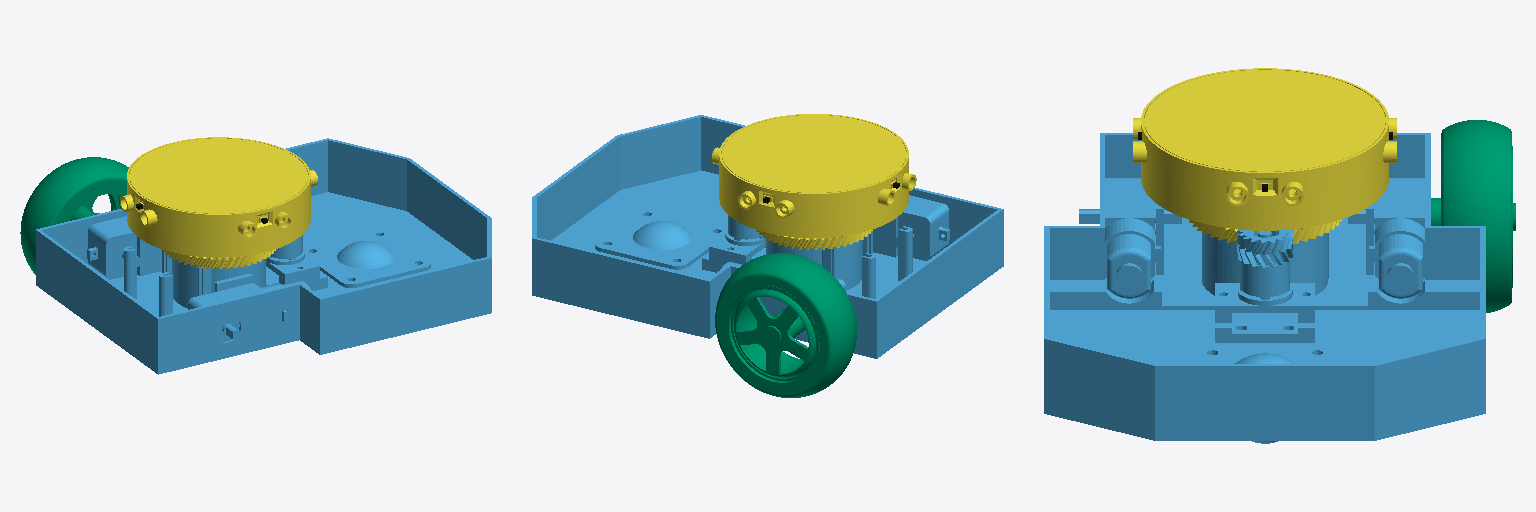
robot.urdf — Lidarino:
<?xml version="1.0" ?>
<!-- =================================================================================== -->
<!-- |    This document was autogenerated by xacro from src/lidarino_description/urdf/Lidarino.urdf.xacro | -->
<!-- |    EDITING THIS FILE BY HAND IS NOT RECOMMENDED                                 | -->
<!-- =================================================================================== -->
<robot name="Lidarino">
  <link name="wheel_R">
    <inertial>
      <origin rpy="0.0 -0.0 0.0" xyz="3.8589283501977436e-08 3.3503422258718277e-13 -0.017044397508191807"/>
      <mass value="0.0493089812577897"/>
      <inertia ixx="2.1725366580018456e-05" ixy="5.925842498991085e-17" ixz="1.2860682814920879e-11" iyy="2.172573834724608e-05" iyz="1.1233689759665433e-16" izz="3.791921679166611e-05"/>
    </inertial>
    <visual name="wheel_R_visual">
      <origin rpy="-4.72621546065603e-16 -1.1102230246251568e-16 -2.7755575615628926e-17" xyz="1.1368683772161603e-15 1.3322676295501878e-17 0.0"/>
      <geometry>
        <mesh filename="package://lidarino_description/urdf/meshes/wheel_R.stl" scale="0.001 0.001 0.001"/>
      </geometry>
    </visual>
    <collision name="wheel_R_collision">
      <origin rpy="0 0 0" xyz="0 0 -0.017"/>
      <geometry>
        <sphere radius="0.035"/>
      </geometry>
    </collision>
  </link>
  <link name="base_link">
    <inertial>
      <origin rpy="0.0 0.0 0.0" xyz="-0.003112056333080186 -2.296575824702822e-16 0.00763198155223819"/>
      <mass value="0.23452271908044364"/>
      <inertia ixx="0.00044352479067893535" ixy="8.940708824769937e-15" ixz="3.3751097963762396e-05" iyy="0.0006700968102651768" iyz="3.5156320803171255e-12" izz="0.001064913287950513"/>
    </inertial>
    <visual name="base_link_visual">
      <origin rpy="0.0 0.0 0.0" xyz="0.0 0.0 0.0"/>
      <geometry>
        <mesh filename="package://lidarino_description/urdf/meshes/base_link.stl" scale="0.001 0.001 0.001"/>
      </geometry>
    </visual>
    <collision name="base_link_collision">
      <origin rpy="0.0 0.0 0.0" xyz="0.0 0.0 0.0"/>
      <geometry>
        <mesh filename="package://lidarino_description/urdf/meshes/base_link.stl" scale="0.001 0.001 0.001"/>
      </geometry>
    </collision>
  </link>
  <link name="wheel_L">
    <inertial>
      <origin rpy="0.0 -0.0 0.0" xyz="3.8589283501977436e-08 3.3503422258718277e-13 -0.017044397508191828"/>
      <mass value="0.0493089812577897"/>
      <inertia ixx="2.17253665800184e-05" ixy="5.927197751706692e-17" ixz="1.2860682842025933e-11" iyy="2.1725738347246244e-05" iyz="1.1234367386023236e-16" izz="3.7919216791666135e-05"/>
    </inertial>
    <visual name="wheel_L_visual">
      <origin rpy="-1.4649353258190343e-16 -1.2470396389907355e-32 -5.551115123125783e-17" xyz="1.1368683772161603e-15 1.1102230246251566e-17 0.0"/>
      <geometry>
        <mesh filename="package://lidarino_description/urdf/meshes/wheel_L.stl" scale="0.001 0.001 0.001"/>
      </geometry>
    </visual>
    <collision name="wheel_L_collision">
      <origin rpy="0 0 0" xyz="0 0 -0.017"/>
      <geometry>
        <sphere radius="0.035"/>
      </geometry>
    </collision>
  </link>
  <link name="lidar">
    <inertial>
      <origin rpy="0.0 -0.0 0.0" xyz="9.148285995408401e-10 -1.4055638260363446e-14 -0.018366241687653523"/>
      <mass value="0.05517921789897613"/>
      <inertia ixx="4.035574913846524e-05" ixy="6.10000891607277e-14" ixz="2.3863745181318397e-13" iyy="4.035574911324637e-05" iyz="-7.147133370998126e-17" izz="6.456345828808408e-05"/>
    </inertial>
    <visual name="lidar_visual">
      <origin rpy="3.141592653589793 -1.1102230246251565e-16 -3.141592653589788" xyz="0.03699999999999997 -1.3132734841103373e-17 -0.005000000000000009"/>
      <geometry>
        <mesh filename="package://lidarino_description/urdf/meshes/lidar.stl" scale="0.001 0.001 0.001"/>
      </geometry>
    </visual>
    <collision name="lidar_collision">
      <origin rpy="3.141592653589793 -1.1102230246251565e-16 -3.141592653589788" xyz="0.03699999999999997 -1.3132734841103373e-17 -0.005000000000000009"/>
      <geometry>
        <mesh filename="package://lidarino_description/urdf/meshes/lidar.stl" scale="0.001 0.001 0.001"/>
      </geometry>
    </collision>
  </link>
  <joint name="L_wheel_Revolute" type="continuous">
    <origin rpy="1.5707963267948966 -0.0 0.0" xyz="-0.06 0.06 0.015"/>
    <parent link="base_link"/>
    <child link="wheel_L"/>
    <axis xyz="0.0 0.0 -1.0"/>
    <limit effort="10.0" velocity="20.0"/>
  </joint>
  <joint name="R_wheel_Revolute" type="continuous">
    <origin rpy="-1.5707963267948966 -0.0 0.0" xyz="-0.06 -0.06 0.015"/>
    <parent link="base_link"/>
    <child link="wheel_R"/>
    <axis xyz="0.0 0.0 1.0"/>
    <limit effort="10.0" velocity="20.0"/>
  </joint>
  <joint name="lidar_Revolute" type="continuous">
    <origin rpy="3.141592653589793 -0.0 0.0" xyz="-0.031000000000000003 0.0 0.03"/>
    <parent link="base_link"/>
    <child link="lidar"/>
    <axis xyz="0.0 0.0 1.0"/>
  </joint>
  <link name="tof_1_link">
    <visual>
      <geometry>
        <box size="0.0044 0.0024 0.002"/>
      </geometry>
      <material name="black">
        <color rgba="0.1 0.1 0.1 1.0"/>
      </material>
    </visual>
  </link>
  <joint name="tof_1_joint" type="fixed">
    <parent link="lidar"/>
    <child link="tof_1_link"/>
    <origin rpy="0 0 0" xyz="0.044 0.0 -0.031"/>
  </joint>
  <gazebo reference="tof_1_link">
    <sensor name="tof_1_sensor" type="gpu_lidar">
      <topic>/scan_tof_1</topic>
      <pose>0 0 0 0 0 0</pose>
      <always_on>true</always_on>
      <visualize>true</visualize>
      <update_rate>30.0</update_rate>
      <lidar>
        <scan>
          <horizontal>
            <samples>5</samples>
            <resolution>1</resolution>
            <min_angle>-0.218</min_angle>
            <max_angle>0.218</max_angle>
          </horizontal>
        </scan>
        <range>
          <min>0.05</min>
          <max>2.0</max>
          <resolution>0.001</resolution>
        </range>
      </lidar>
      <gz_frame_id>tof_1_link</gz_frame_id>
    </sensor>
  </gazebo>
  <link name="tof_2_link">
    <visual>
      <geometry>
        <box size="0.0044 0.0024 0.002"/>
      </geometry>
      <material name="black">
        <color rgba="0.1 0.1 0.1 1.0"/>
      </material>
    </visual>
  </link>
  <joint name="tof_2_joint" type="fixed">
    <parent link="lidar"/>
    <child link="tof_2_link"/>
    <origin rpy="0 0 1.5707963267948966" xyz="2.694222958124177e-18 0.044 -0.031"/>
  </joint>
  <gazebo reference="tof_2_link">
    <sensor name="tof_2_sensor" type="gpu_lidar">
      <topic>/scan_tof_2</topic>
      <pose>0 0 0 0 0 0</pose>
      <always_on>true</always_on>
      <visualize>true</visualize>
      <update_rate>30.0</update_rate>
      <lidar>
        <scan>
          <horizontal>
            <samples>5</samples>
            <resolution>1</resolution>
            <min_angle>-0.218</min_angle>
            <max_angle>0.218</max_angle>
          </horizontal>
        </scan>
        <range>
          <min>0.05</min>
          <max>2.0</max>
          <resolution>0.001</resolution>
        </range>
      </lidar>
      <gz_frame_id>tof_2_link</gz_frame_id>
    </sensor>
  </gazebo>
  <link name="tof_3_link">
    <visual>
      <geometry>
        <box size="0.0044 0.0024 0.002"/>
      </geometry>
      <material name="black">
        <color rgba="0.1 0.1 0.1 1.0"/>
      </material>
    </visual>
  </link>
  <joint name="tof_3_joint" type="fixed">
    <parent link="lidar"/>
    <child link="tof_3_link"/>
    <origin rpy="0 0 3.141592653589793" xyz="-0.044 5.388445916248354e-18 -0.031"/>
  </joint>
  <gazebo reference="tof_3_link">
    <sensor name="tof_3_sensor" type="gpu_lidar">
      <topic>/scan_tof_3</topic>
      <pose>0 0 0 0 0 0</pose>
      <always_on>true</always_on>
      <visualize>true</visualize>
      <update_rate>30.0</update_rate>
      <lidar>
        <scan>
          <horizontal>
            <samples>5</samples>
            <resolution>1</resolution>
            <min_angle>-0.218</min_angle>
            <max_angle>0.218</max_angle>
          </horizontal>
        </scan>
        <range>
          <min>0.05</min>
          <max>2.0</max>
          <resolution>0.001</resolution>
        </range>
      </lidar>
      <gz_frame_id>tof_3_link</gz_frame_id>
    </sensor>
  </gazebo>
  <link name="tof_4_link">
    <visual>
      <geometry>
        <box size="0.0044 0.0024 0.002"/>
      </geometry>
      <material name="black">
        <color rgba="0.1 0.1 0.1 1.0"/>
      </material>
    </visual>
  </link>
  <joint name="tof_4_joint" type="fixed">
    <parent link="lidar"/>
    <child link="tof_4_link"/>
    <origin rpy="0 0 4.71238898038469" xyz="-8.08266887437253e-18 -0.044 -0.031"/>
  </joint>
  <gazebo reference="tof_4_link">
    <sensor name="tof_4_sensor" type="gpu_lidar">
      <topic>/scan_tof_4</topic>
      <pose>0 0 0 0 0 0</pose>
      <always_on>true</always_on>
      <visualize>true</visualize>
      <update_rate>30.0</update_rate>
      <lidar>
        <scan>
          <horizontal>
            <samples>5</samples>
            <resolution>1</resolution>
            <min_angle>-0.218</min_angle>
            <max_angle>0.218</max_angle>
          </horizontal>
        </scan>
        <range>
          <min>0.05</min>
          <max>2.0</max>
          <resolution>0.001</resolution>
        </range>
      </lidar>
      <gz_frame_id>tof_4_link</gz_frame_id>
    </sensor>
  </gazebo>
  <ros2_control name="GazeboSystem" type="system">
    <hardware>
      <plugin>gz_ros2_control/GazeboSimSystem</plugin>
    </hardware>
    <joint name="lidar_Revolute">
      <command_interface name="velocity">
        <param name="min">-100</param>
        <param name="max">100</param>
      </command_interface>
      <state_interface name="position"/>
      <state_interface name="velocity"/>
    </joint>
    <joint name="R_wheel_Revolute">
      <command_interface name="velocity">
        <param name="min">-10</param>
        <param name="max">10</param>
      </command_interface>
      <state_interface name="position"/>
      <state_interface name="velocity"/>
    </joint>
    <joint name="L_wheel_Revolute">
      <command_interface name="velocity">
        <param name="min">-10</param>
        <param name="max">10</param>
      </command_interface>
      <state_interface name="position"/>
      <state_interface name="velocity"/>
    </joint>
  </ros2_control>
  <gazebo>
    <plugin filename="gz_ros2_control-system" name="gz_ros2_control::GazeboSimROS2ControlPlugin">
      <parameters>/home/peppe/lidarino_ws/install/lidarino_description/share/lidarino_description/config/controllers.yaml</parameters>
    </plugin>
  </gazebo>
  <gazebo reference="base_link">
    <mu1>0.0</mu1>
    <mu2>0.0</mu2>
  </gazebo>
  <gazebo reference="wheel_R">
    <mu1>1.0</mu1>
    <mu2>1.0</mu2>
    <kp>1000000.0</kp>
    <kd>100.0</kd>
  </gazebo>
  <gazebo reference="wheel_L">
    <mu1>1.0</mu1>
    <mu2>1.0</mu2>
    <kp>1000000.0</kp>
    <kd>100.0</kd>
  </gazebo>
</robot>

--- Facts derived from the render (not from the file) ---
3 views of the same robot in one strip: view 1: azimuth 30°, elevation 25°; view 2: azimuth 150°, elevation 25°; view 3: azimuth 270°, elevation 25° (orthographic).
Model Lidarino with 8 links and 7 joints (3 continuous, 4 fixed), rooted at base_link, posed all joints at 0.
Links seen in each view (by area): view 1: base_link, lidar, wheel_L; view 2: base_link, lidar, wheel_L; view 3: base_link, lidar, wheel_L.
Boxes of the visible links, x1,y1,x2,y2 form: base_link: (36, 138, 491, 374); lidar: (120, 137, 317, 268); wheel_L: (20, 157, 128, 274); base_link: (532, 115, 1003, 358); lidar: (712, 114, 916, 249); wheel_L: (715, 253, 856, 397); base_link: (1044, 133, 1485, 443); lidar: (1133, 68, 1396, 243); wheel_L: (1431, 120, 1515, 312).
Size in the robot's own frame: 0.2 by 0.1708 by 0.089 metres.
Meshes: 4 distinct files referenced, 3 mesh visuals loaded (3 binary STL); not drawn: 1 (file found but could not be loaded).
